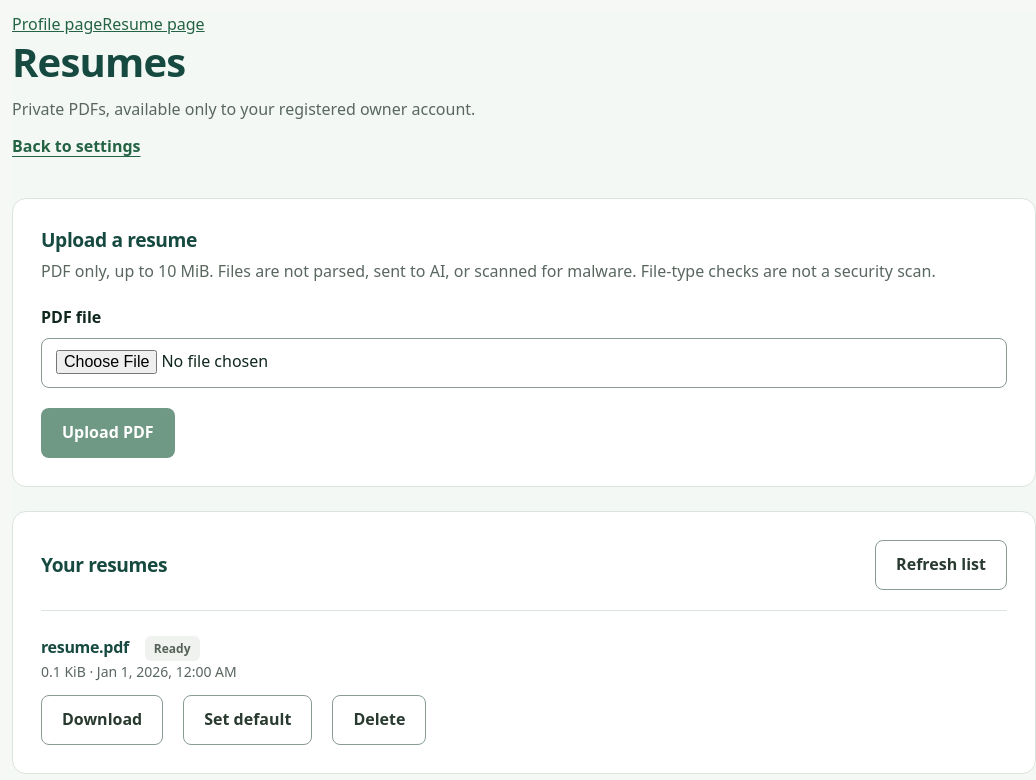
private resume operations with mocked Supabase › requires deletion confirmation and disables mutations offline
What coordinates should you click on to do the following:
click the button with aria-label "Delete resume.pdf"
I would click on:
 (379, 720)
Its box is [332,695,426,745].
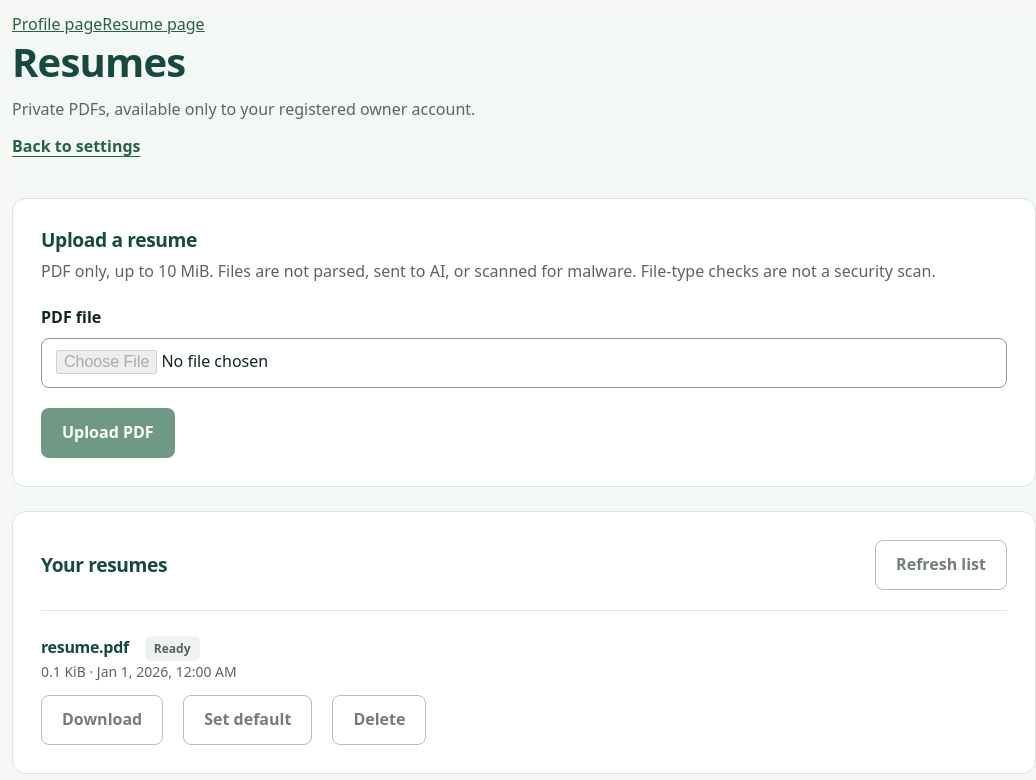
Expected: the button with aria-label "Delete resume.pdf" is disabled, [332,695,426,745]
